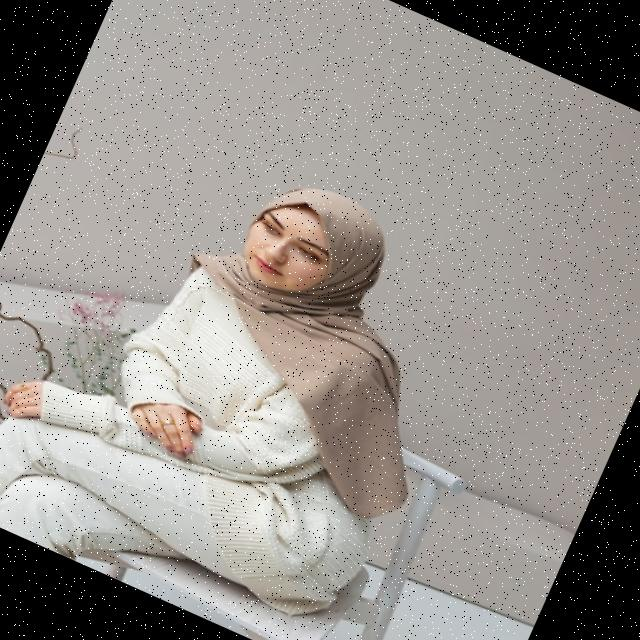Person: (0, 92, 509, 640)
